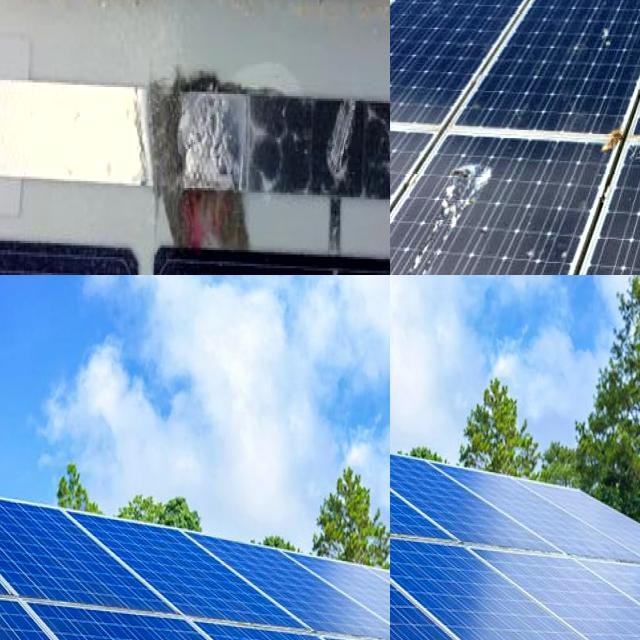bird: (437, 150, 488, 262), (593, 106, 634, 168), (503, 0, 544, 19), (596, 16, 616, 54), (594, 0, 628, 22), (622, 0, 640, 23)
crack: (56, 488, 313, 640), (390, 514, 632, 640), (175, 514, 390, 640), (0, 485, 177, 638), (390, 425, 564, 576), (390, 497, 567, 640), (390, 399, 518, 565), (14, 586, 368, 640), (461, 534, 640, 640), (390, 396, 505, 549)
shadow: (130, 32, 316, 272)
